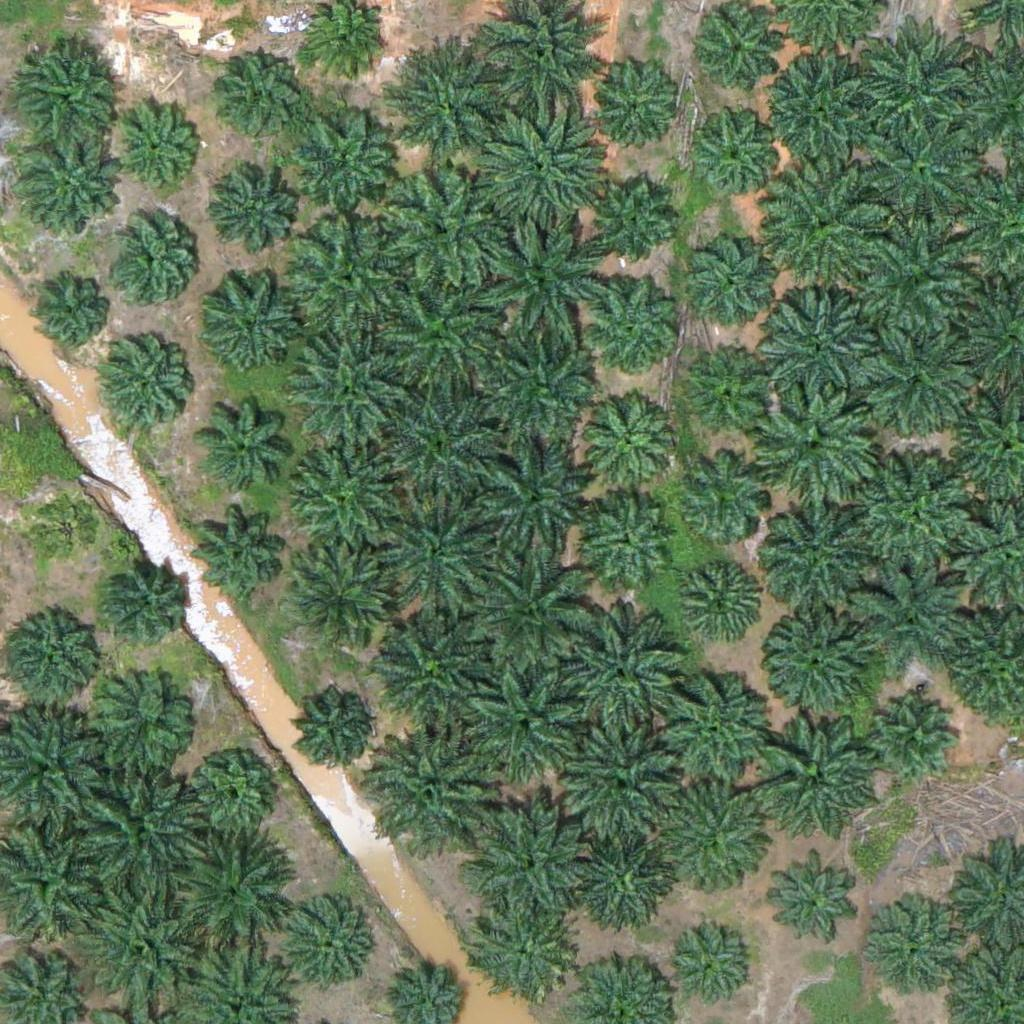Kelapa_Sawit: (853, 555, 978, 681), (849, 451, 974, 577), (856, 218, 981, 344), (861, 110, 986, 236), (855, 30, 980, 156), (759, 50, 884, 176), (758, 279, 883, 405), (754, 384, 879, 510), (752, 717, 877, 843), (659, 671, 784, 797), (568, 608, 693, 734), (553, 724, 678, 850), (468, 433, 593, 559), (476, 104, 601, 230), (477, 216, 602, 342), (481, 331, 606, 457), (390, 39, 515, 165), (385, 164, 510, 290), (378, 267, 503, 393), (379, 380, 504, 506), (375, 488, 500, 614), (364, 726, 489, 852), (287, 213, 412, 339), (77, 765, 202, 891), (78, 882, 203, 1008), (173, 822, 298, 948), (465, 889, 590, 1015), (462, 790, 587, 916), (853, 321, 978, 446), (770, 161, 895, 286), (462, 659, 587, 784), (470, 547, 595, 672), (664, 774, 777, 888), (757, 508, 870, 621), (762, 611, 875, 724), (369, 610, 482, 723), (83, 675, 196, 788), (285, 537, 397, 650), (289, 430, 401, 543), (289, 329, 401, 442), (582, 281, 682, 382), (577, 391, 677, 492), (574, 491, 674, 592), (297, 111, 397, 212), (193, 392, 293, 493), (192, 499, 292, 600), (20, 135, 120, 236), (16, 42, 116, 143), (866, 899, 966, 1000), (584, 52, 684, 152), (198, 273, 298, 373), (275, 891, 375, 991), (564, 830, 664, 930), (188, 750, 276, 838), (678, 450, 766, 538), (689, 231, 777, 319), (219, 52, 307, 140), (112, 107, 200, 195), (109, 220, 197, 308), (101, 343, 189, 431), (667, 923, 755, 1011), (100, 554, 187, 643), (29, 267, 116, 355), (869, 691, 956, 779), (681, 554, 768, 642), (689, 349, 776, 437), (696, 108, 783, 196), (695, 9, 782, 97), (589, 181, 676, 269), (213, 171, 300, 259), (767, 854, 854, 942), (29, 490, 104, 566), (295, 693, 370, 768)
